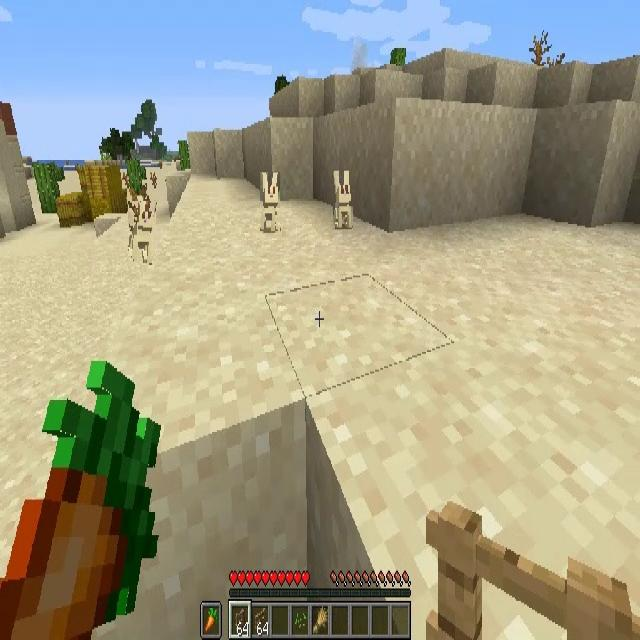rabbit: (128, 201, 156, 265), (260, 172, 280, 235), (333, 170, 353, 230)
